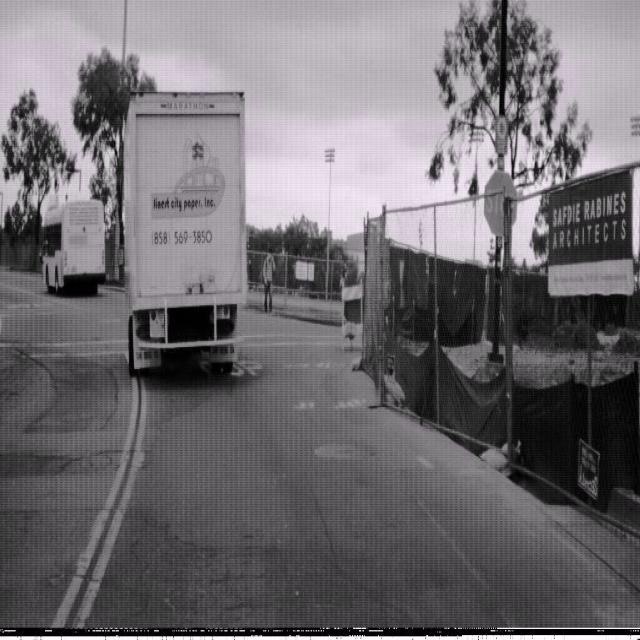stop: (483, 168, 518, 238)
